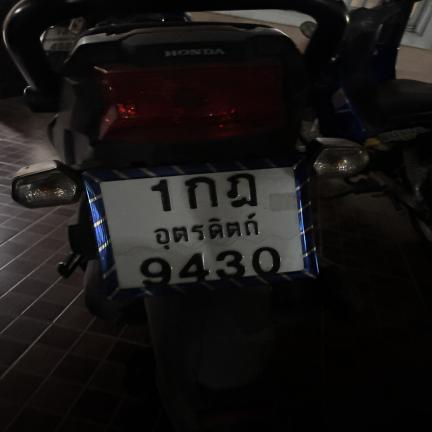0: (248, 243, 284, 277)
1: (143, 179, 178, 212)
3: (213, 247, 248, 279)
4: (173, 251, 212, 285)
9: (137, 255, 177, 289)
A01: (181, 176, 223, 210)
A14: (225, 173, 262, 209)
UTT: (144, 210, 269, 253)
